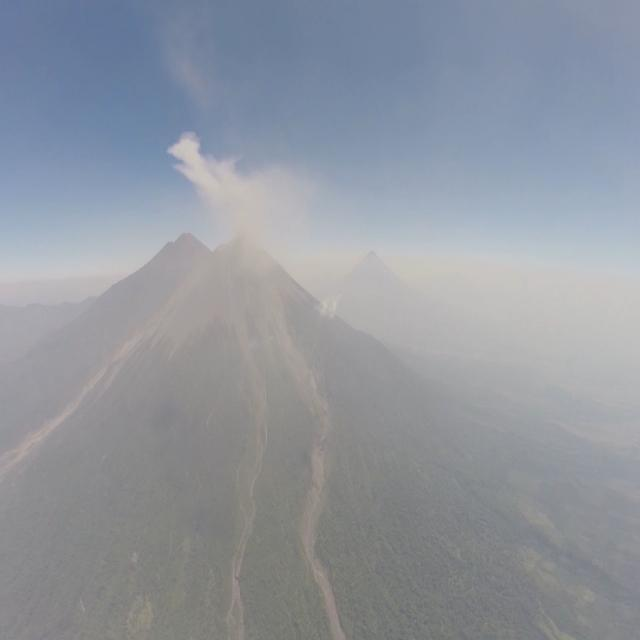Plume: (166, 124, 322, 245)
